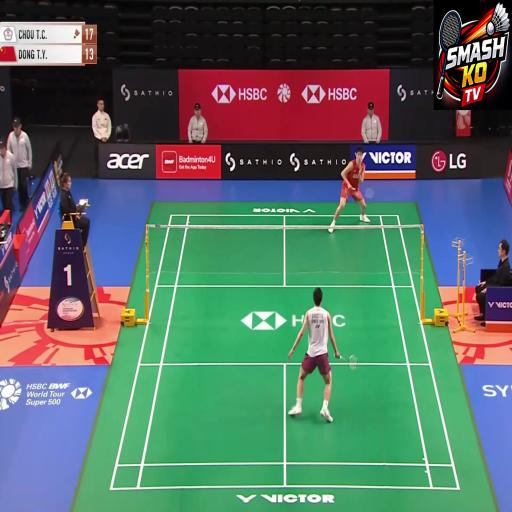player: (284, 260, 355, 461), (325, 129, 375, 253)
